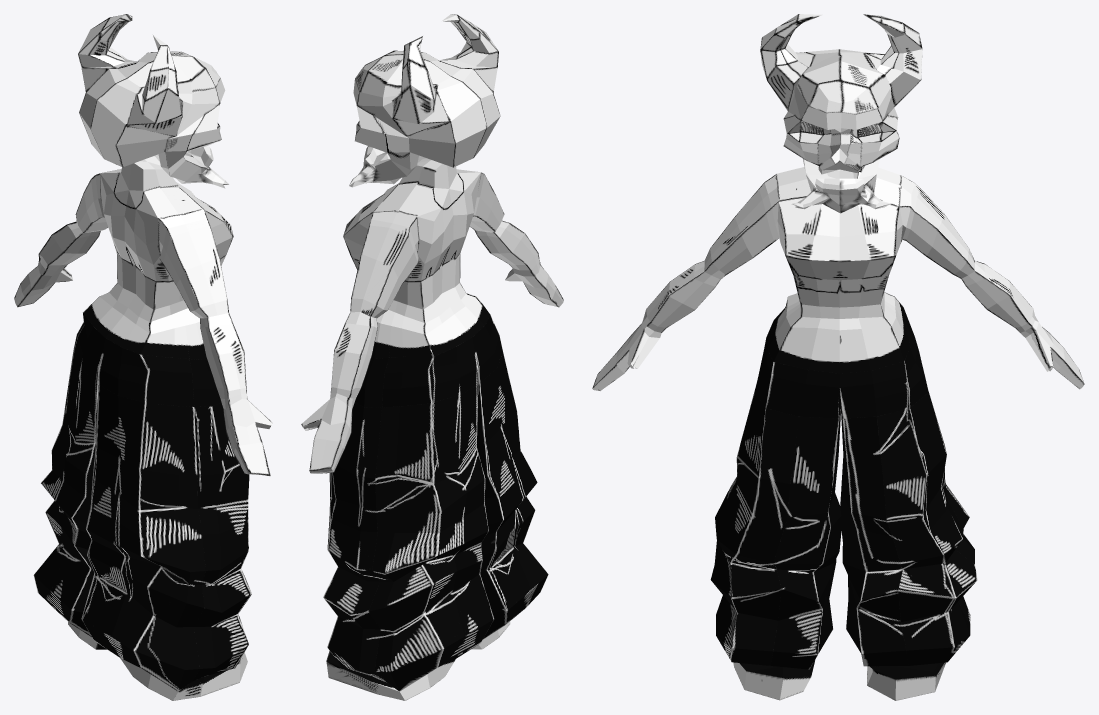
The model's file is Tavi_Manyengavana_2939454_Group13_A2_Colour_Normal.fbx.
3 views of the same model, side by side, from view 1: azimuth 30°, elevation 25°; view 2: azimuth 150°, elevation 25°; view 3: azimuth 270°, elevation 25° (orthographic). The views are drawn at different scales.
Parts seen in each view (by area): view 1: John Skull.001; view 2: John Skull.001; view 3: John Skull.001.
Boxes of the visible parts, box(x1,y1,x2,y2) form: John Skull.001: box(14, 14, 272, 700); John Skull.001: box(301, 14, 563, 700); John Skull.001: box(592, 14, 1084, 700).
Bounding box in the file's own units: 195 × 823 × 565.
1 material, 1 textured.
